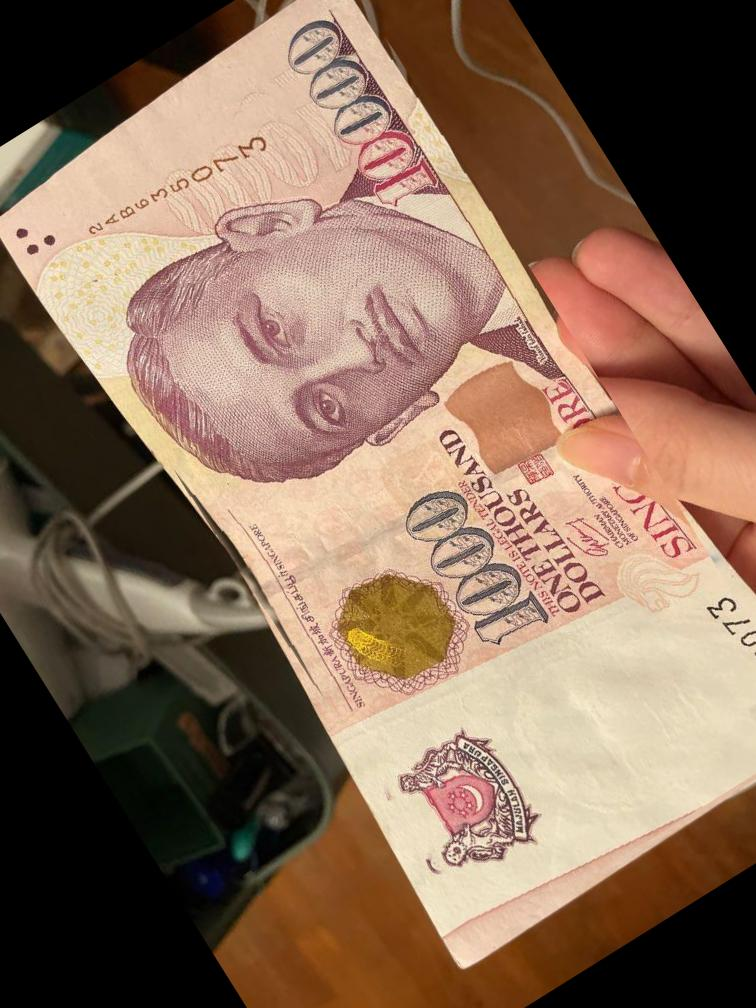1000SingaporeDollar: (5, 0, 756, 953)
